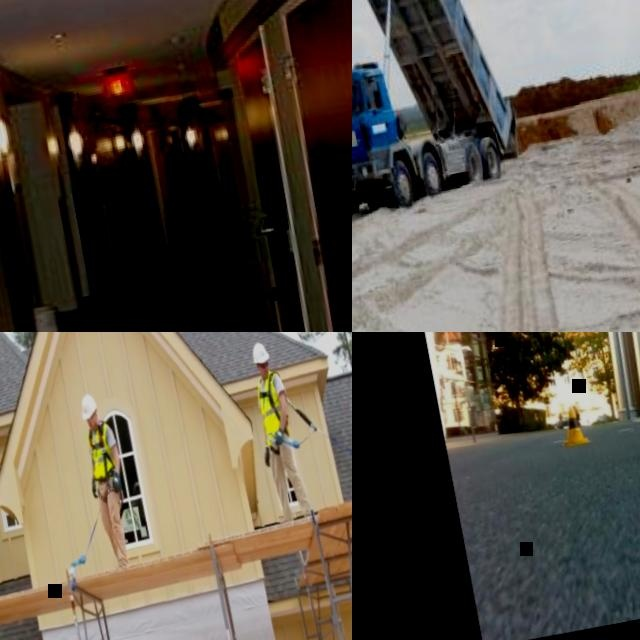Hardhat: (78, 392, 100, 419), (250, 341, 270, 365)
NO-Mask: (260, 368, 269, 379), (89, 420, 97, 430)
Person: (243, 338, 315, 525), (74, 389, 141, 570)
Safety Cone: (556, 406, 591, 447)
Safety Vest: (254, 368, 293, 447), (85, 420, 118, 479)
machinery: (352, 0, 532, 230)
